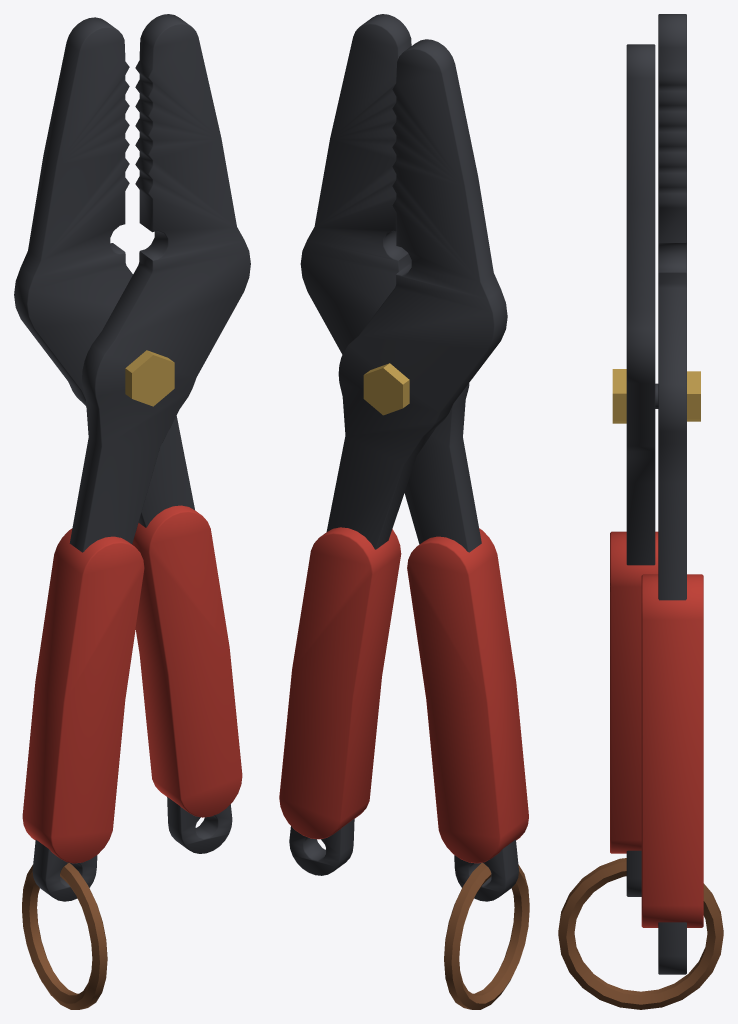
File: tool_pliers.fbx
3 views of the same model, side by side, from view 1: azimuth 30°, elevation 25°; view 2: azimuth 150°, elevation 25°; view 3: azimuth 270°, elevation 25° (orthographic). The views are drawn at different scales.
Visible parts, largest first — view 1: Tool_Pliers_JawA, Tool_Pliers_JawB, Tool_Pliers_Pivot; view 2: Tool_Pliers_JawB, Tool_Pliers_JawA, Tool_Pliers_Pivot; view 3: Tool_Pliers_JawB, Tool_Pliers_JawA, Tool_Pliers_Pivot.
Boxes of the visible parts, box(x1,y1,x2,y2) form: Tool_Pliers_JawA: box(22, 14, 250, 1009); Tool_Pliers_JawB: box(14, 17, 242, 853); Tool_Pliers_Pivot: box(125, 350, 174, 406); Tool_Pliers_JawB: box(279, 39, 507, 875); Tool_Pliers_JawA: box(300, 14, 529, 1009); Tool_Pliers_Pivot: box(363, 363, 409, 415); Tool_Pliers_JawB: box(641, 14, 703, 974); Tool_Pliers_JawA: box(558, 44, 723, 1009); Tool_Pliers_Pivot: box(612, 369, 700, 423).
Bounding box in the file's own units: 8.9 × 38.98 × 5.75.
